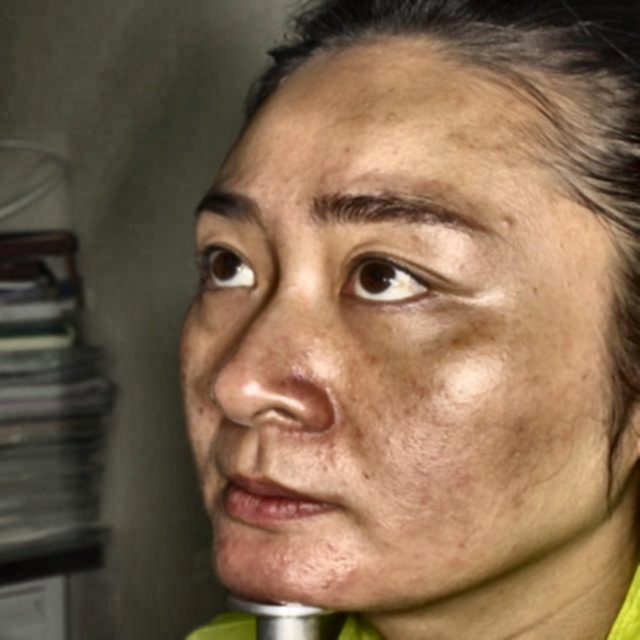comedone: (495, 207, 523, 237)
